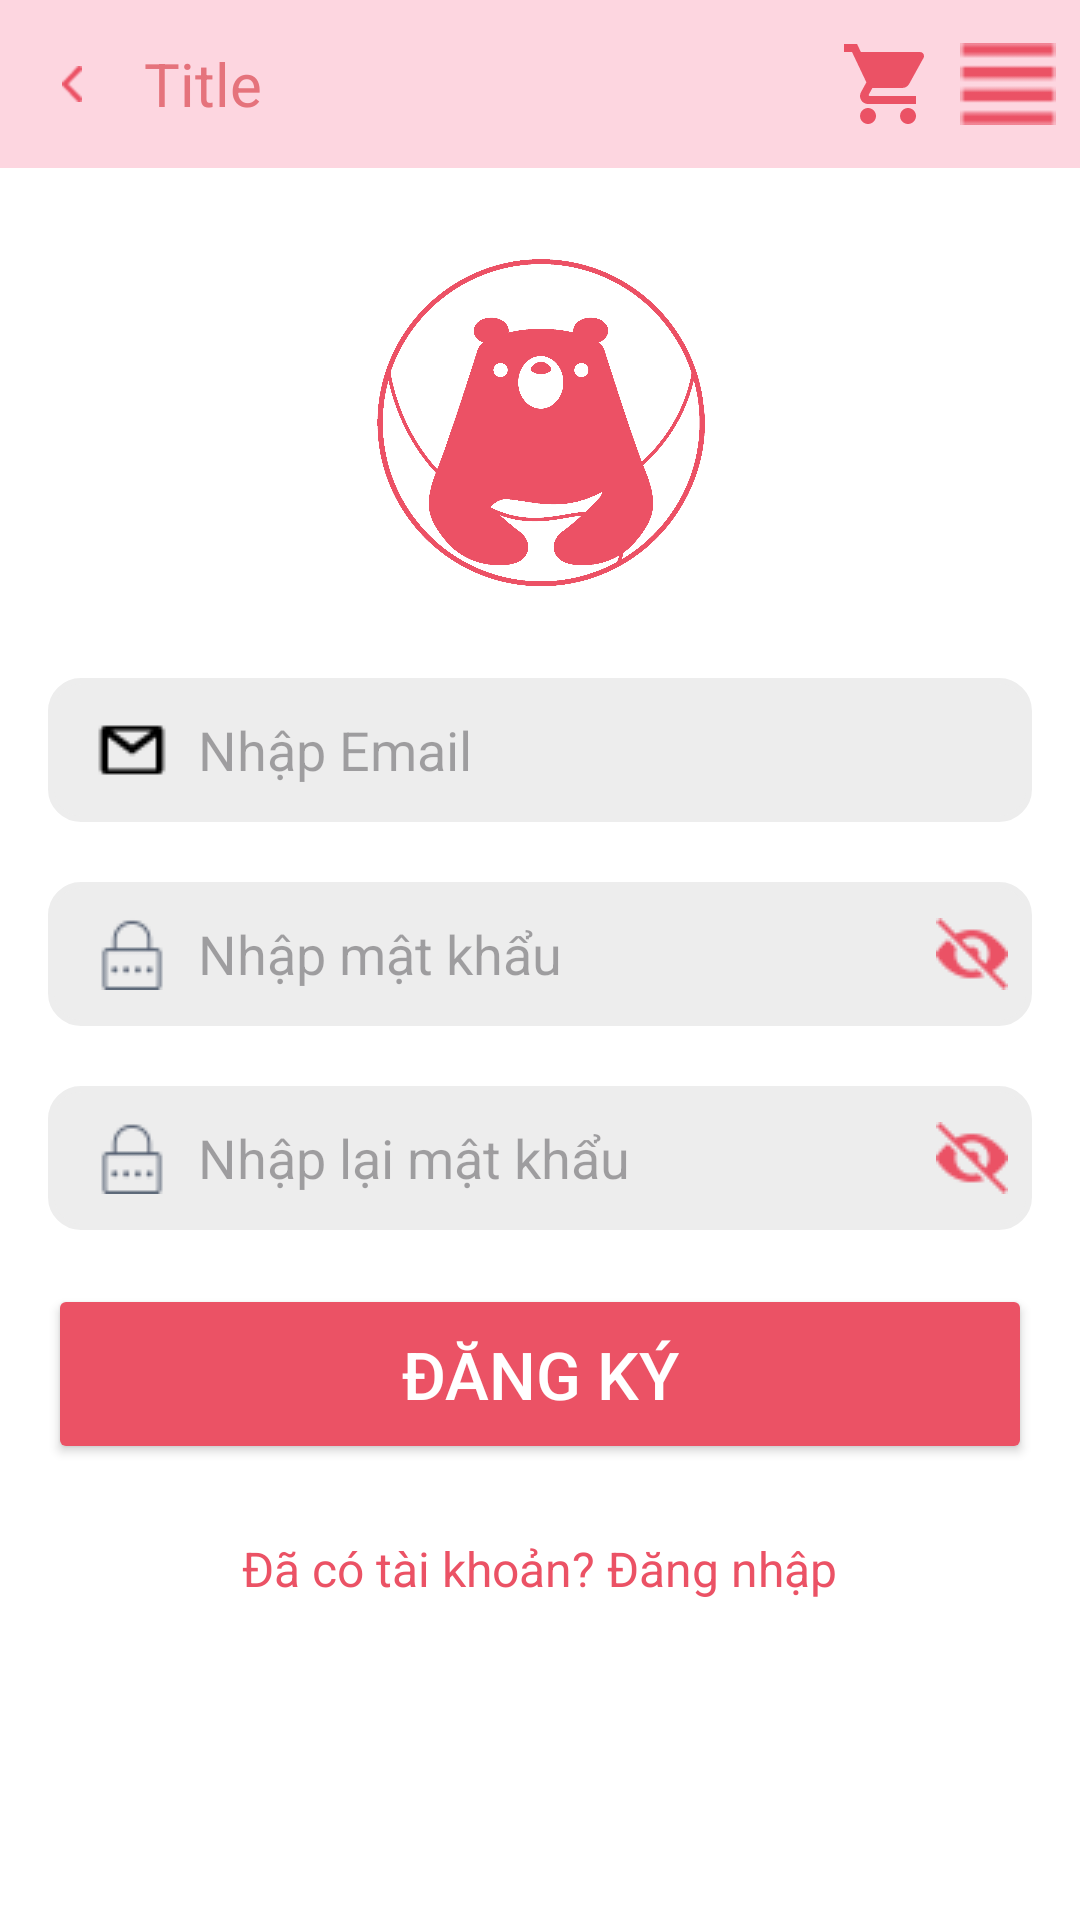

Icon click points for this 1080 × 1920 phone screenshot, format point (x, y):
back: point (72, 84)
cart: point (884, 84)
eye close: point (972, 954), point (972, 1158)
menu: point (1008, 84)
